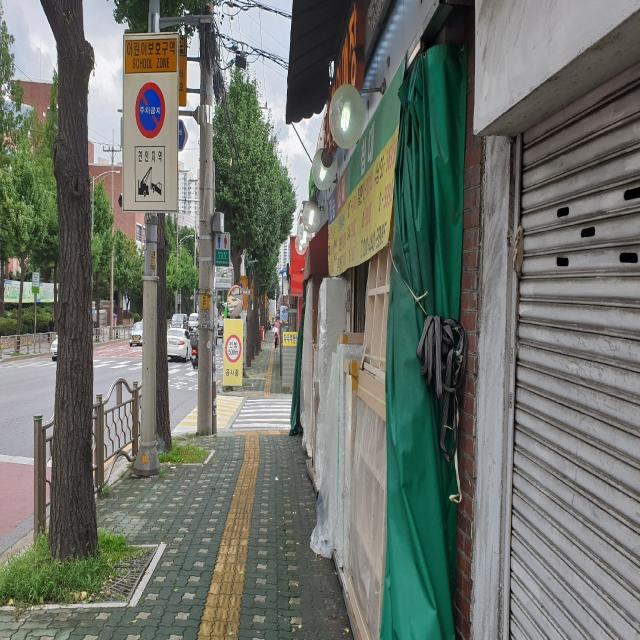횡단보도: (232, 398, 292, 428)
